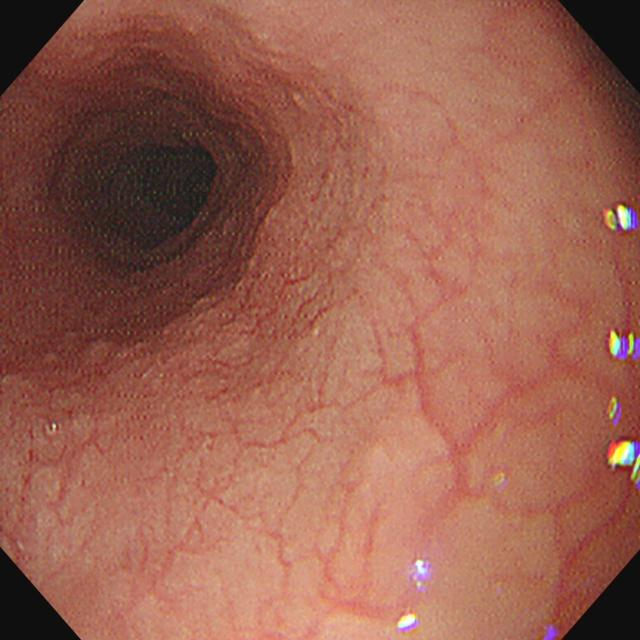E: (71, 128, 224, 266)
U: (605, 439, 640, 481), (603, 202, 640, 237), (608, 330, 640, 362), (409, 557, 431, 593), (396, 610, 424, 635)
